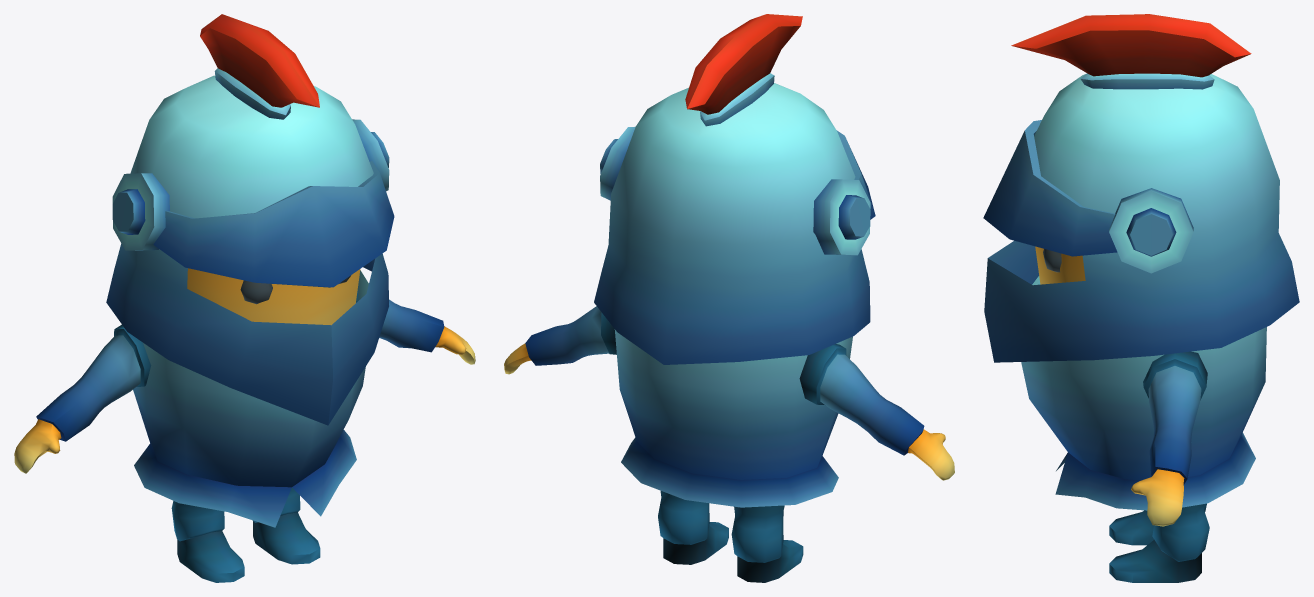
Rendered from fbBaseKnight.fbx.
3 renders of one model, left to right at view 1: azimuth 30°, elevation 25°; view 2: azimuth 150°, elevation 25°; view 3: azimuth 270°, elevation 25°, orthographic. The views are drawn at different scales.
Visible parts, largest first — view 1: Knight; view 2: Knight; view 3: Knight.
Part boxes in pixels (x1,y1,x2,y2): Knight: [14, 14, 475, 582]; Knight: [504, 14, 954, 582]; Knight: [983, 14, 1299, 582].
Bounding box in the file's own units: 88.22 × 98.93 × 52.54.
